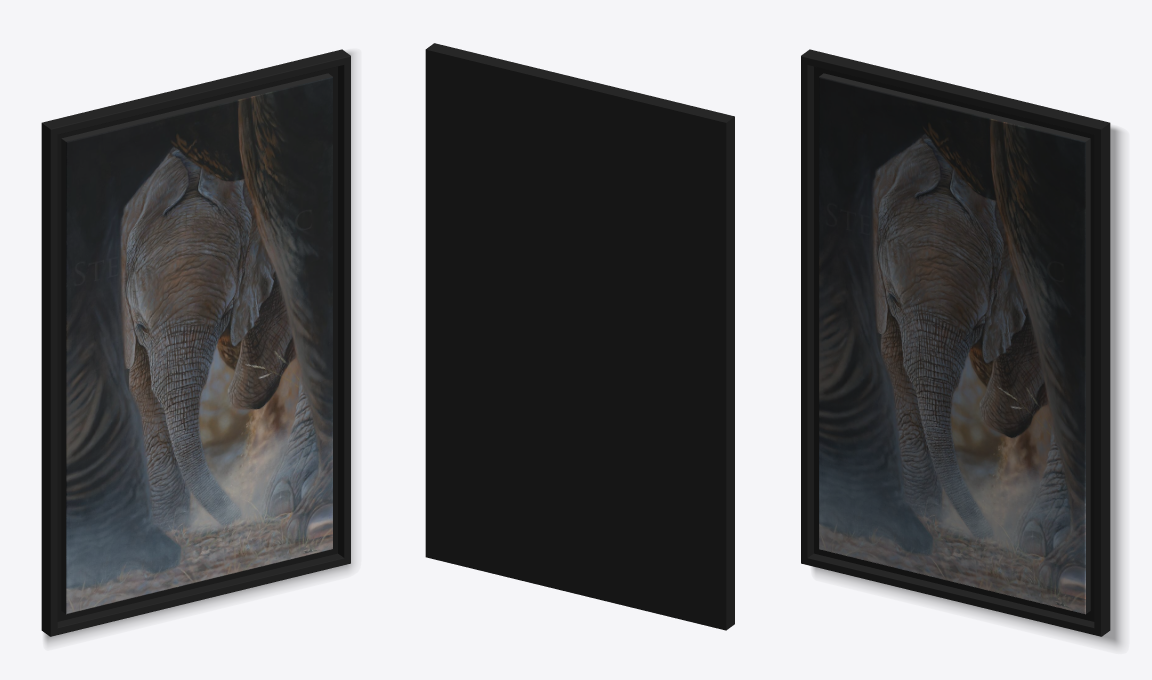
Rendered from tableau-elephanteau-realiste-grand-76c70da1.glb.
3 views of the same model, side by side, from view 1: azimuth 30°, elevation 25°; view 2: azimuth 150°, elevation 25°; view 3: azimuth 330°, elevation 25° (orthographic).
Parts seen in each view (by area): view 1: Painting; view 2: Painting; view 3: Painting.
Boxes of the visible parts, x1=… form: Painting: x1=41, y1=49, x2=353, y2=643; Painting: x1=425, y1=43, x2=734, y2=630; Painting: x1=801, y1=49, x2=1121, y2=646.
Size of the model in its own units: 0.906 by 1.38 by 0.04.
5 materials, 3 textured.
